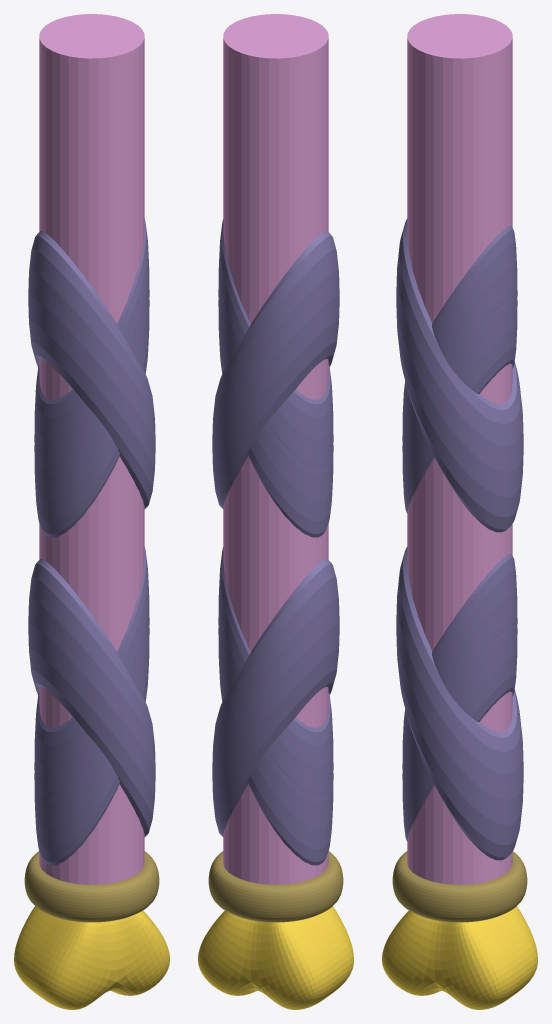
The model's file is stars_wand.fbx.
3 views of the same model, side by side, from view 1: azimuth 30°, elevation 25°; view 2: azimuth 150°, elevation 25°; view 3: azimuth 330°, elevation 25° (orthographic).
Parts seen in each view (by area): view 1: Cylinder.003, Cylinder, Cube, Cylinder.002; view 2: Cylinder.003, Cylinder, Cube, Cylinder.002; view 3: Cylinder.003, Cylinder, Cube, Cylinder.002.
Part boxes in pixels (<box>): Cylinder.003: <box>28,219,155,865</box>; Cylinder: <box>39,14,144,884</box>; Cube: <box>14,906,169,1009</box>; Cylinder.002: <box>24,851,159,922</box>; Cylinder.003: <box>212,219,339,865</box>; Cylinder: <box>223,14,328,884</box>; Cube: <box>198,906,353,1009</box>; Cylinder.002: <box>208,851,343,922</box>; Cylinder.003: <box>396,218,523,860</box>; Cylinder: <box>407,14,512,884</box>; Cube: <box>382,906,537,1009</box>; Cylinder.002: <box>392,851,527,922</box>.
Size of the model in its own units: 38.93 by 281 by 35.83.
